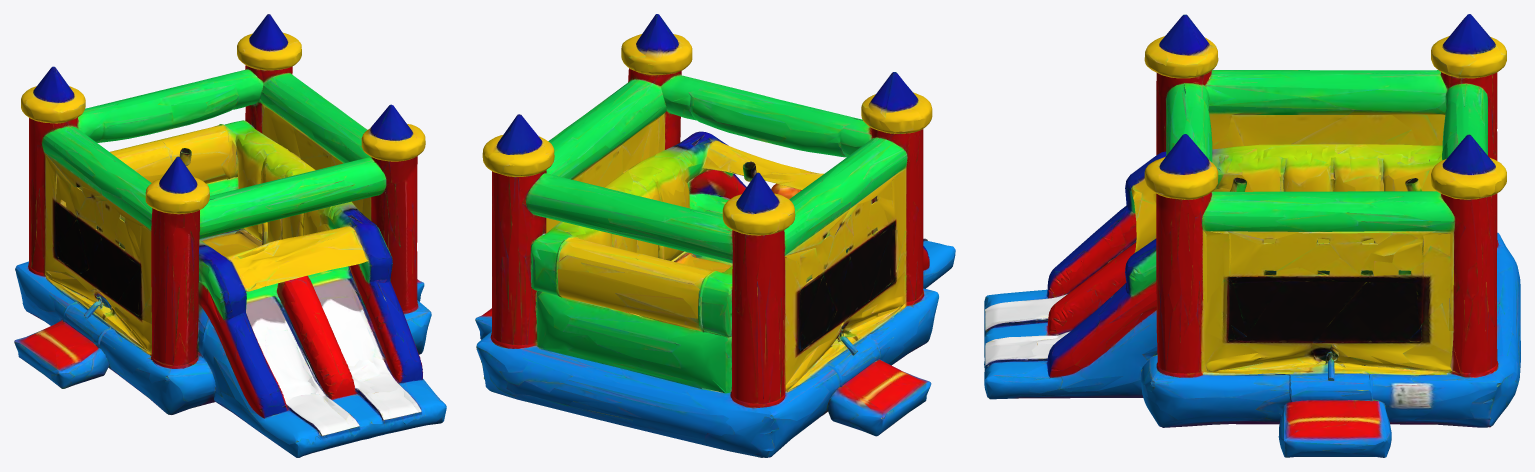
The model's file is hrad-3.glb.
3 views of the same model, side by side, from view 1: azimuth 30°, elevation 25°; view 2: azimuth 150°, elevation 25°; view 3: azimuth 270°, elevation 25° (orthographic). The views are drawn at different scales.
Size of the model in its own units: 1.73 by 1.11 by 1.9.
1 material, 1 textured.
